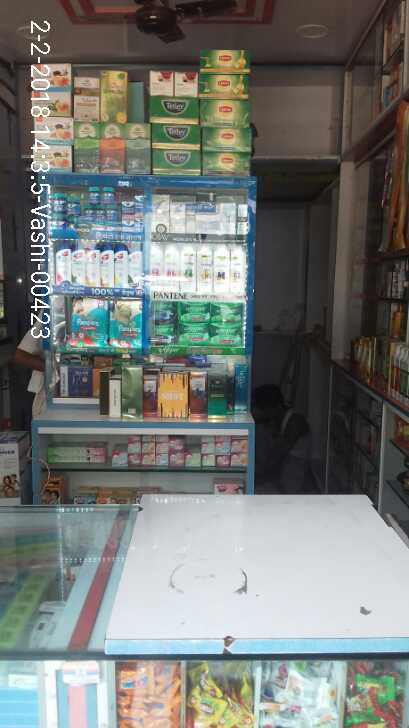beauty: (212, 241, 230, 294), (179, 242, 197, 295), (196, 241, 213, 293), (228, 243, 246, 292), (98, 244, 116, 290), (148, 242, 164, 290), (164, 243, 180, 289), (114, 242, 129, 287), (55, 242, 71, 282), (152, 194, 167, 236), (168, 204, 185, 232), (238, 201, 247, 235), (185, 210, 195, 236)
pharmacy: (72, 294, 109, 345), (109, 294, 142, 350), (208, 299, 246, 326), (179, 299, 209, 325), (210, 324, 242, 346), (175, 323, 208, 344), (65, 196, 83, 216), (86, 186, 102, 206), (100, 186, 115, 206), (51, 214, 66, 234), (83, 207, 96, 229), (54, 194, 67, 214), (121, 214, 133, 235), (119, 201, 134, 216), (104, 206, 118, 220), (94, 208, 104, 225)
